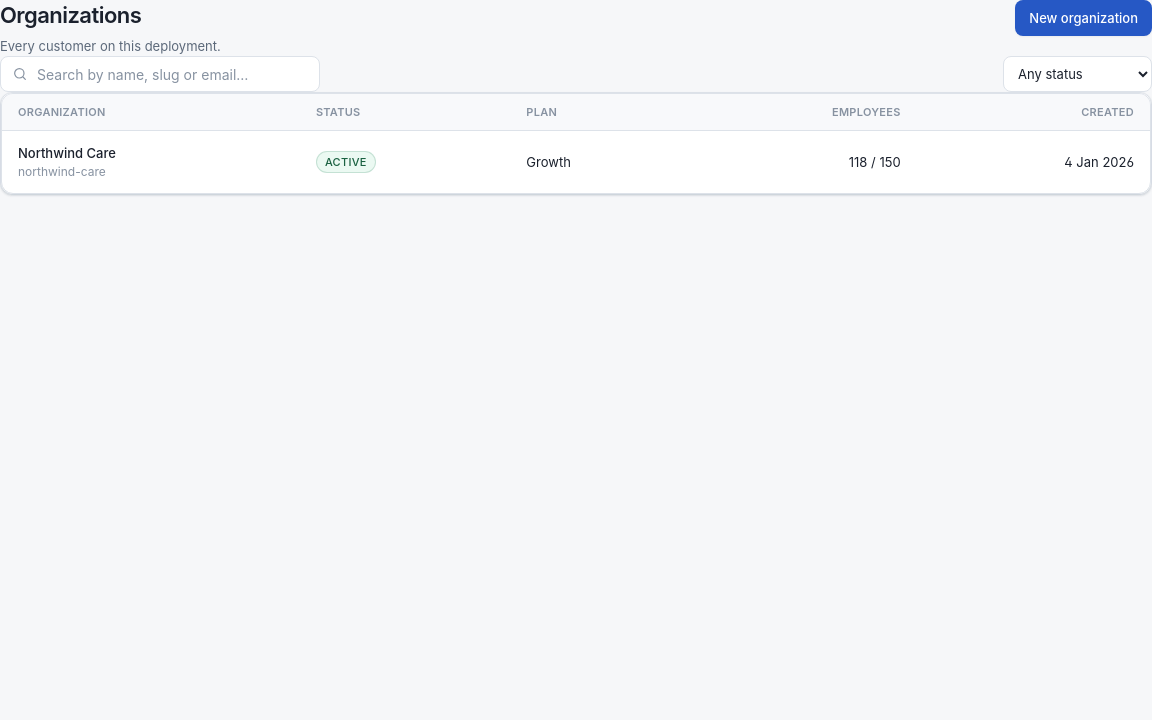
Test: provisioning a customer › sends one request and never displays a password
Click the button "New organization" at x=1084, y=18, box [1015,0,1151,36]
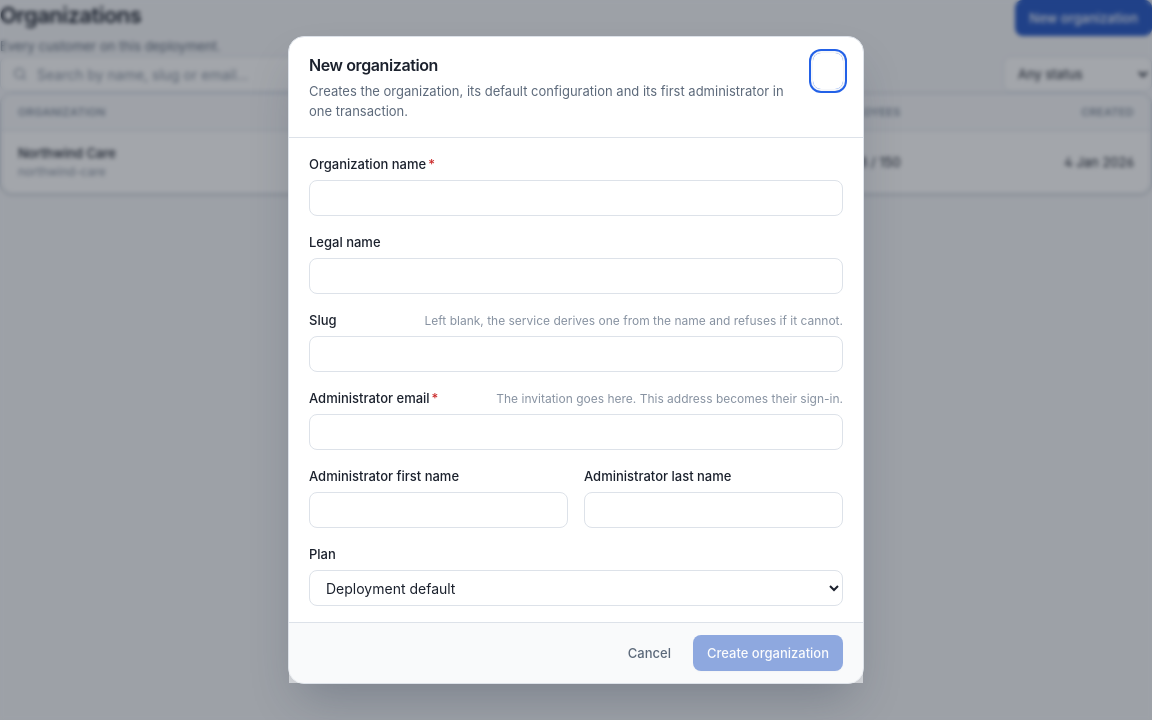
Type "Bluebird Retail" into the field labelled "Organization name*" at x=576, y=198, box [309,180,843,216]
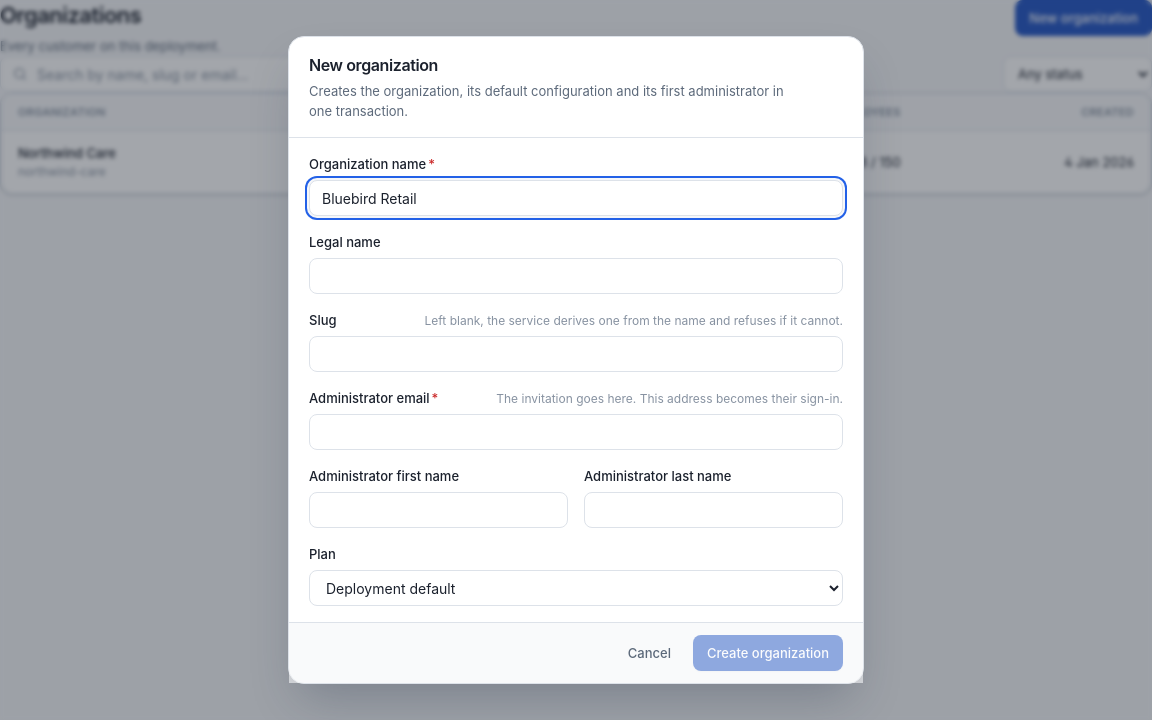
Type "admin@bluebird.test" into the field labelled "Administrator email*" at x=576, y=432, box [309,414,843,450]
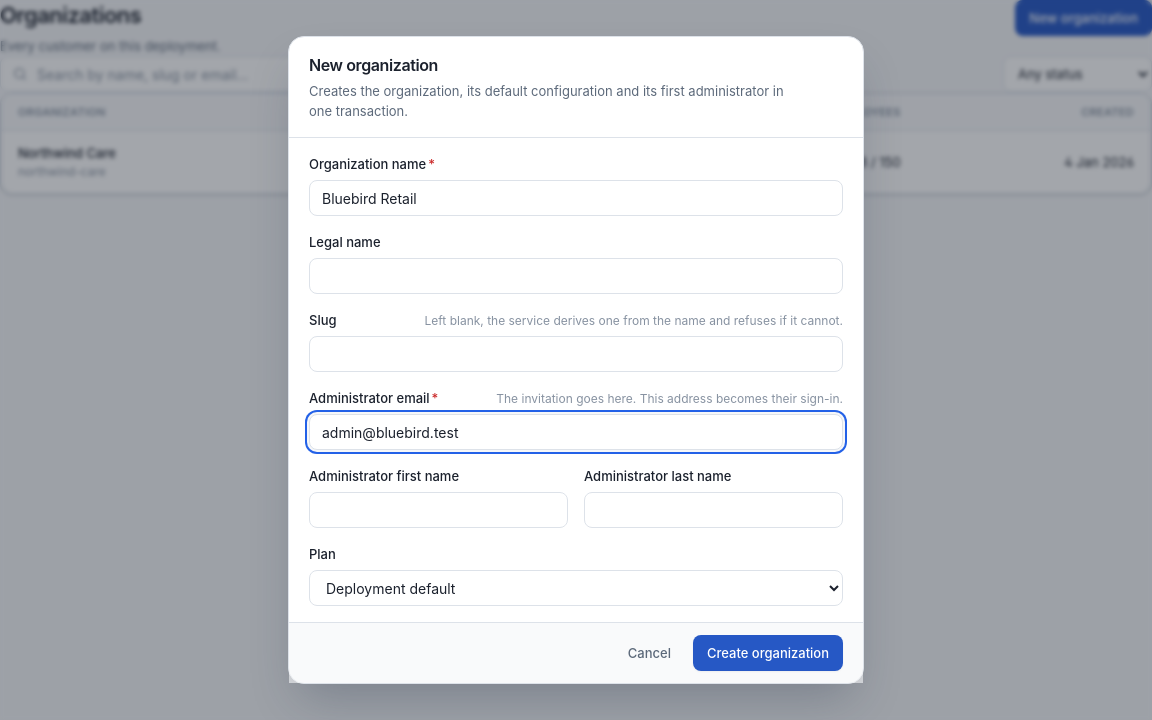
Click the button "Create organization" at x=768, y=653, box [693,635,843,671]
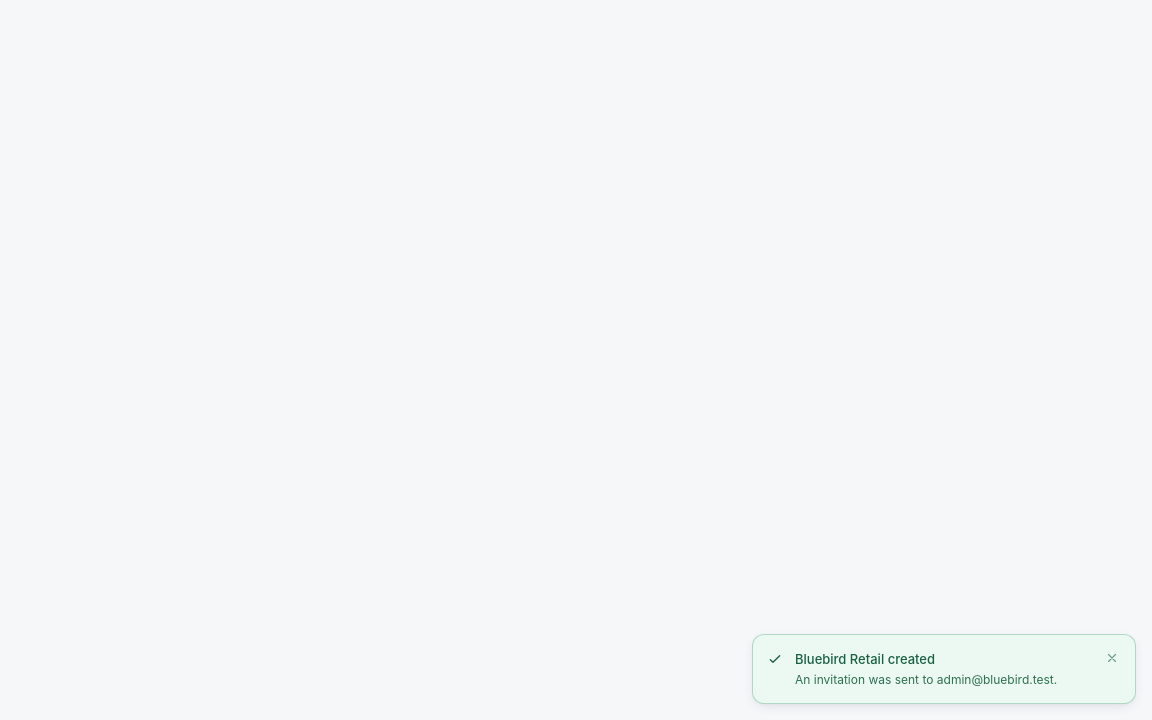
Result: the text "An invitation was sent to admin@bluebird.test." is shown at [795,671,1091,689]
